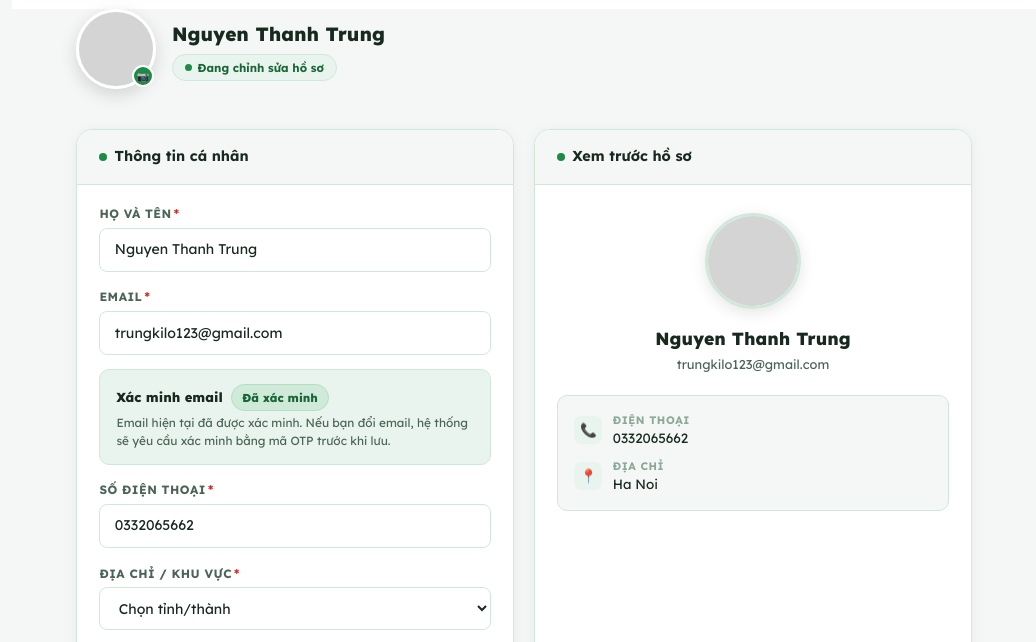
Scenario: ProfileEdit › blocks save when email changed but OTP has not been verified
Expected: the field named "FullName" below "Họ và tên" is shown, [99,228,491,272]
Replace the text in the 2nd field named "Email" with "newmail@example.com" at [295, 333], box [99,311,491,355]
(page scrolled)
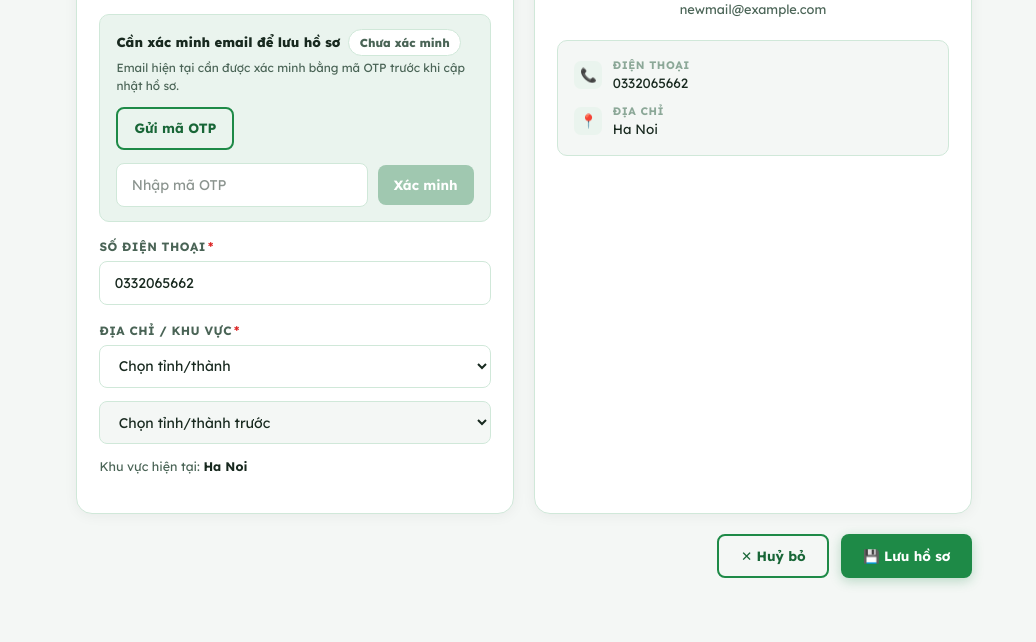
Click the submit button.
click(907, 556)  # box [841,534,972,578]
(page scrolled)
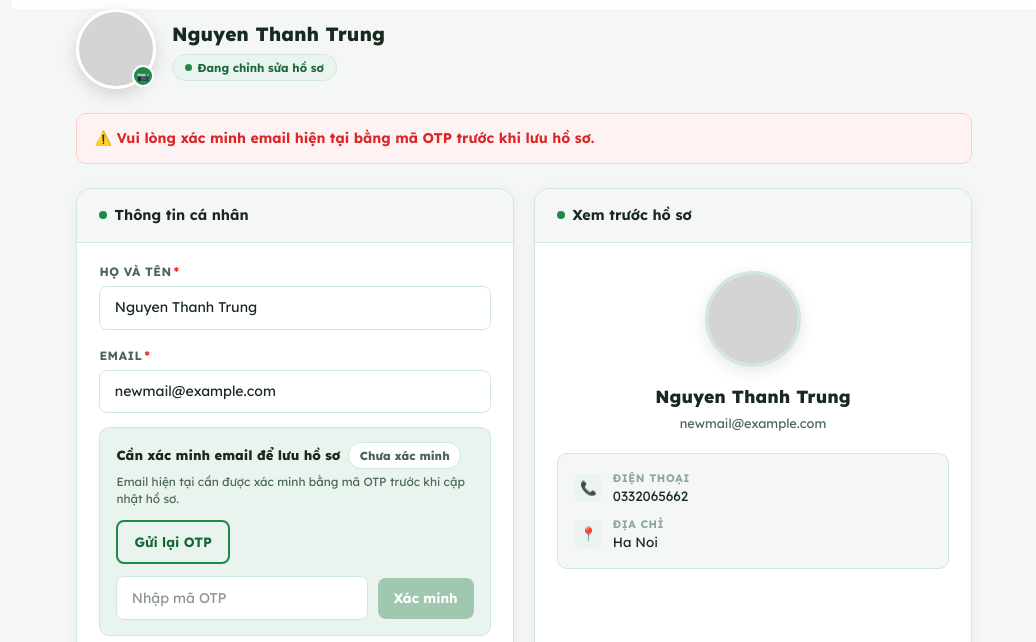
Now the text "Vui lòng xác minh email hiện tại bằng mã OTP trước khi lưu hồ sơ." is shown, box [117,129,594,147]
